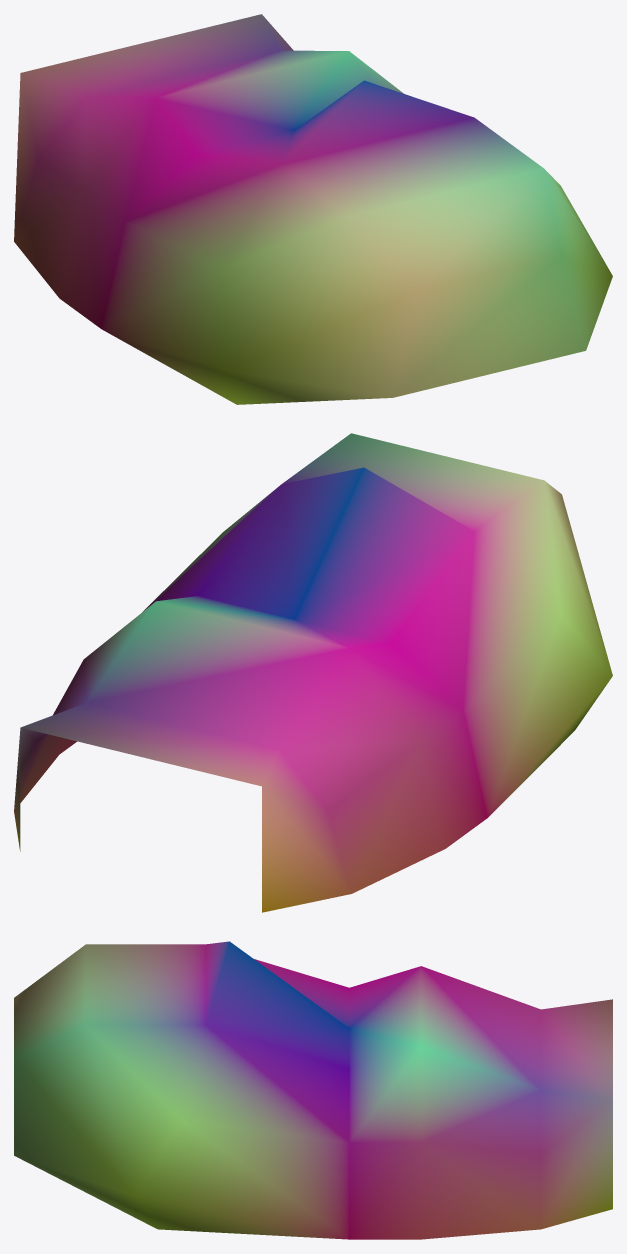
3 renders of one model, top to bottom at view 1: azimuth 30°, elevation 25°; view 2: azimuth 150°, elevation 25°; view 3: azimuth 270°, elevation 25°, orthographic. The views are drawn at different scales.
Visible parts, largest first — view 1: part; view 2: part; view 3: part.
Boxes of the visible parts, left/top/right/bottom form: part: left=14, top=14, right=612, bottom=404; part: left=14, top=433, right=612, bottom=912; part: left=14, top=941, right=612, bottom=1239.
Bounding box in the file's own units: 16 × 10 × 25.
